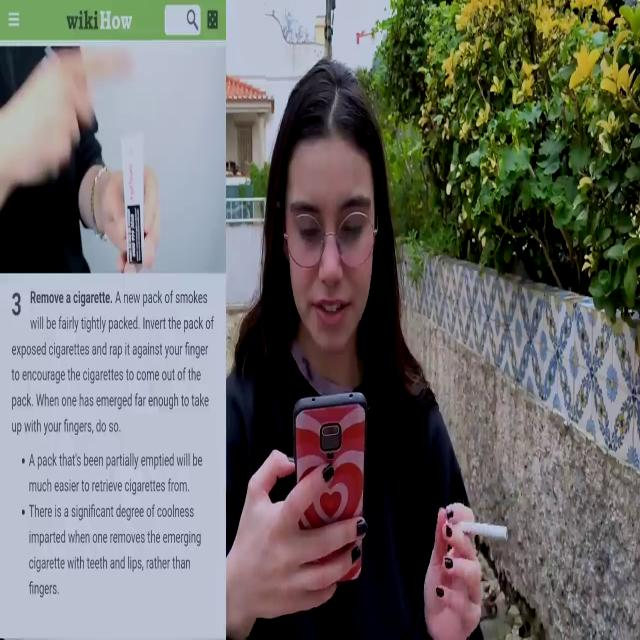Smooking: (459, 508, 513, 564)
